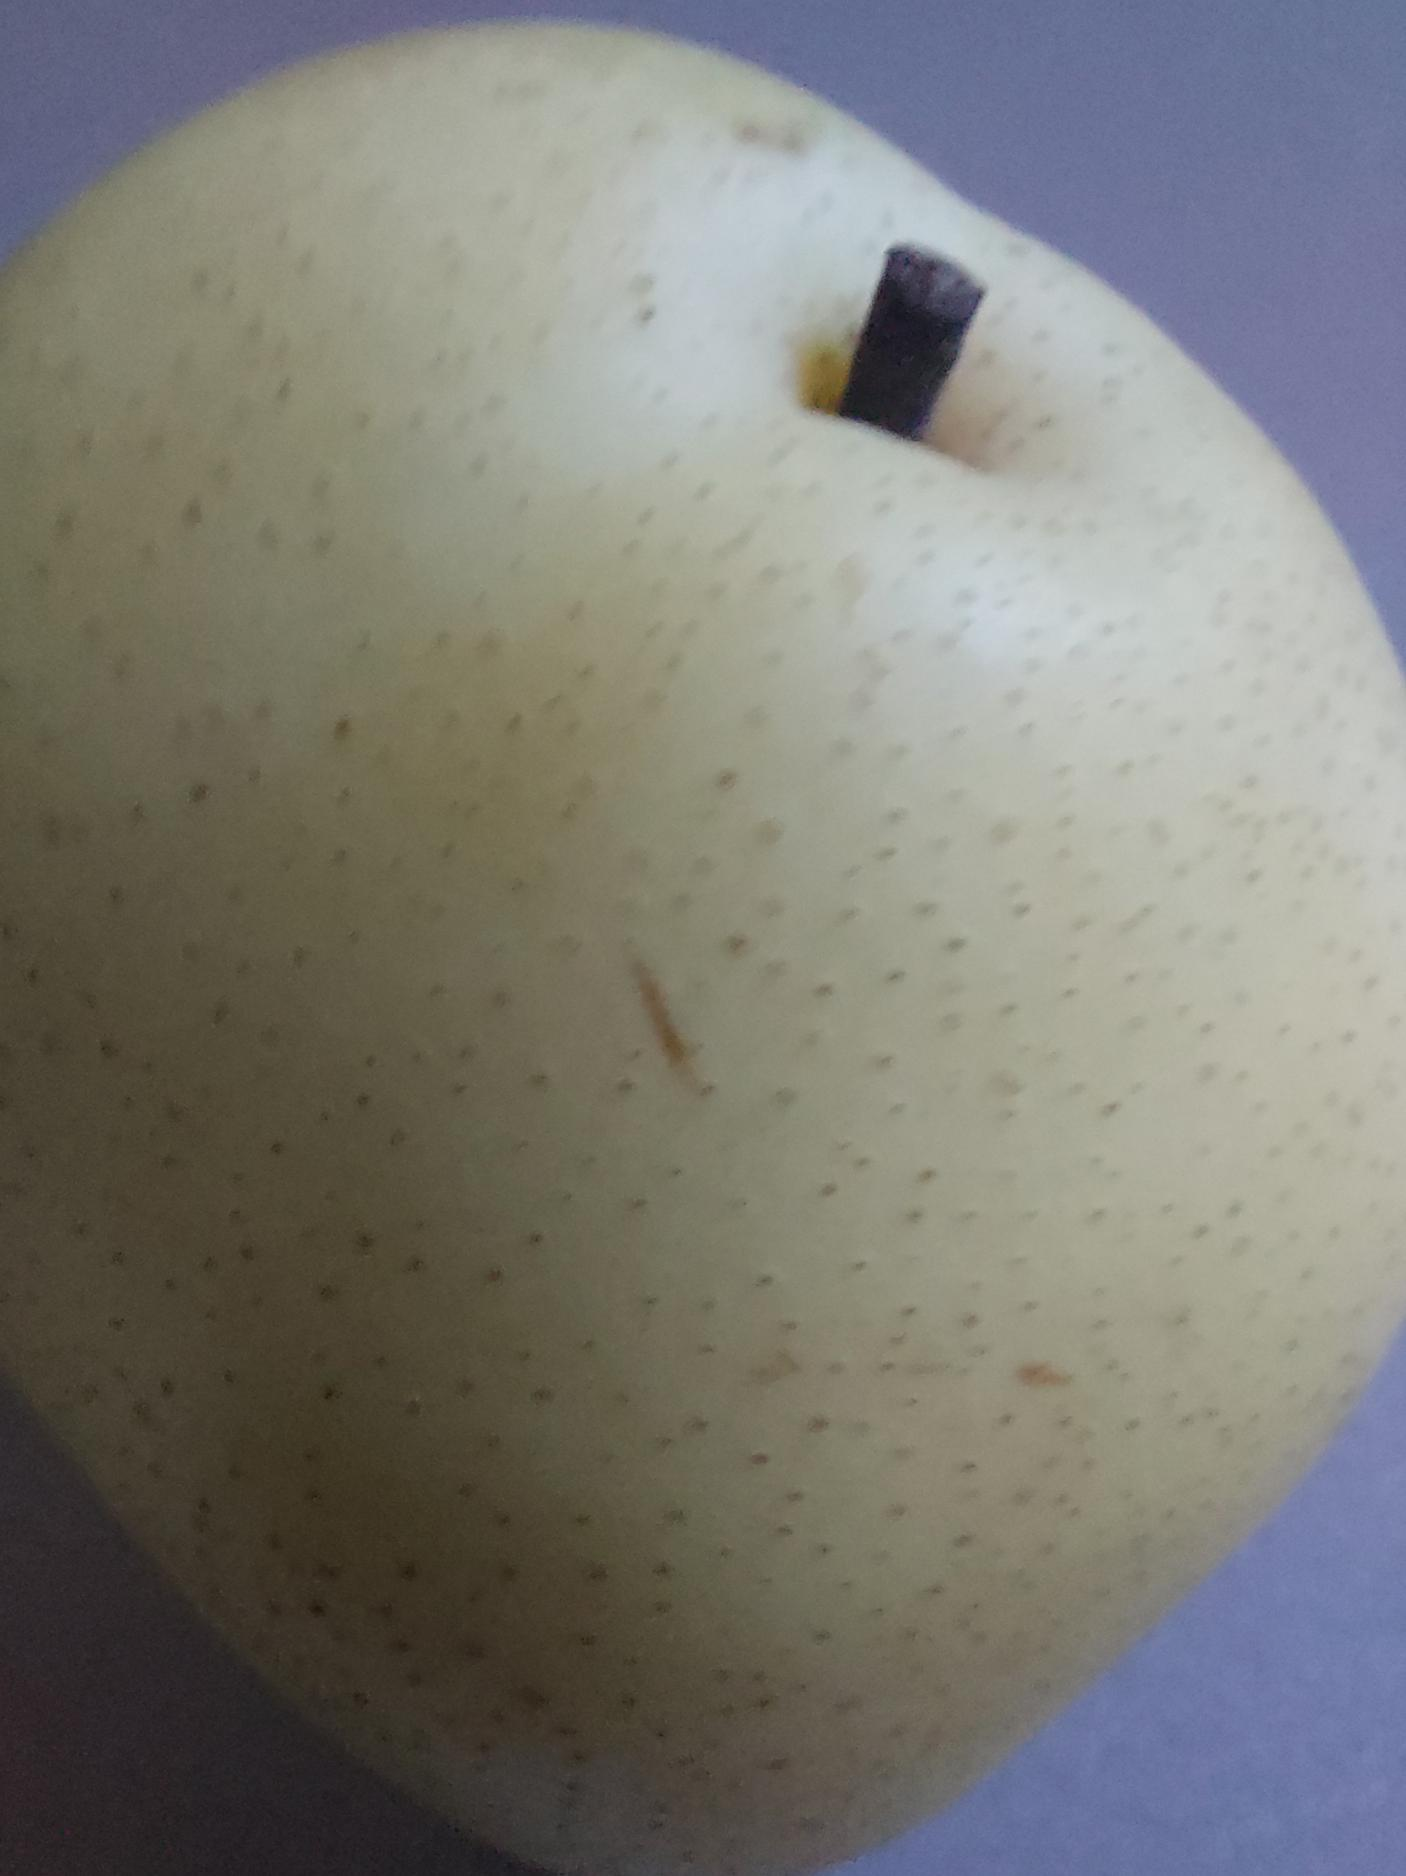Good Pear: (0, 9, 1406, 1876)
